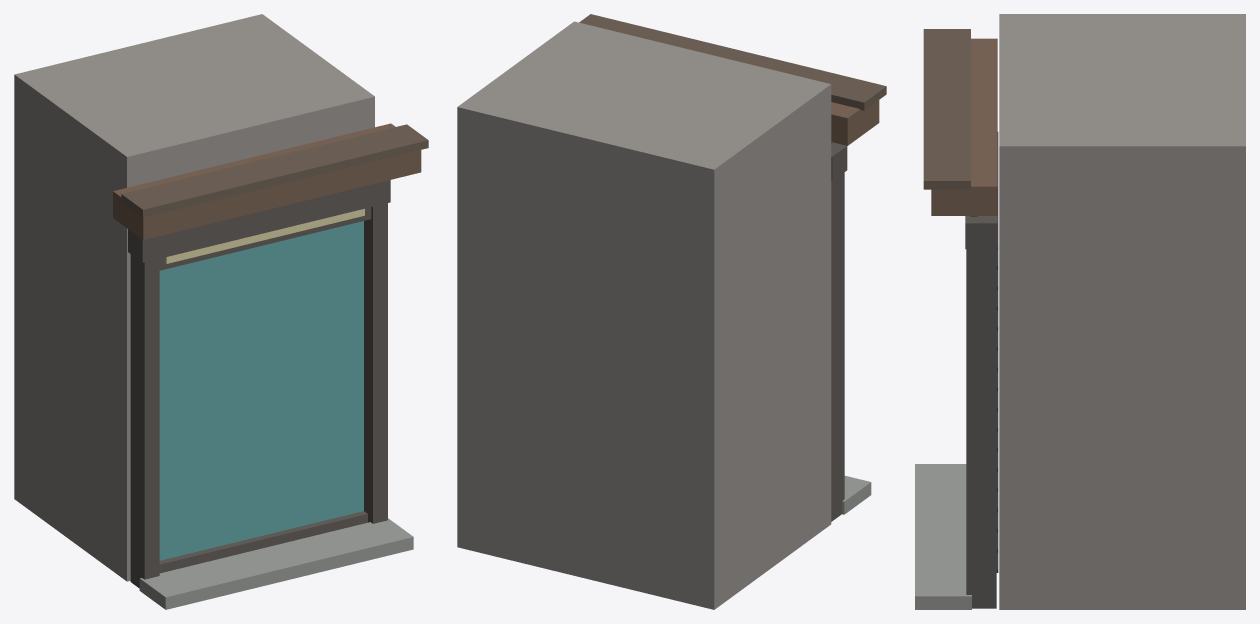
Rendered from prop_shutter_shop_teal.glb.
3 renders of one model, left to right at view 1: azimuth 30°, elevation 25°; view 2: azimuth 150°, elevation 25°; view 3: azimuth 270°, elevation 25°, orthographic. The views are drawn at different scales.
Visible parts, largest first — view 1: shutter_shop_teal; view 2: shutter_shop_teal; view 3: shutter_shop_teal.
Boxes of the visible parts, x1=… form: shutter_shop_teal: x1=14, y1=14, x2=428, y2=609; shutter_shop_teal: x1=457, y1=14, x2=886, y2=609; shutter_shop_teal: x1=915, y1=14, x2=1245, y2=609.
Size of the model in its own units: 3.8 by 5.4 by 3.49.
